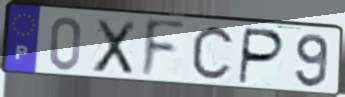0: (48, 16, 83, 73)
9: (294, 33, 331, 90)
C: (188, 23, 237, 85)
F: (139, 17, 188, 82)
P: (236, 26, 287, 87)
X: (91, 17, 138, 77)
